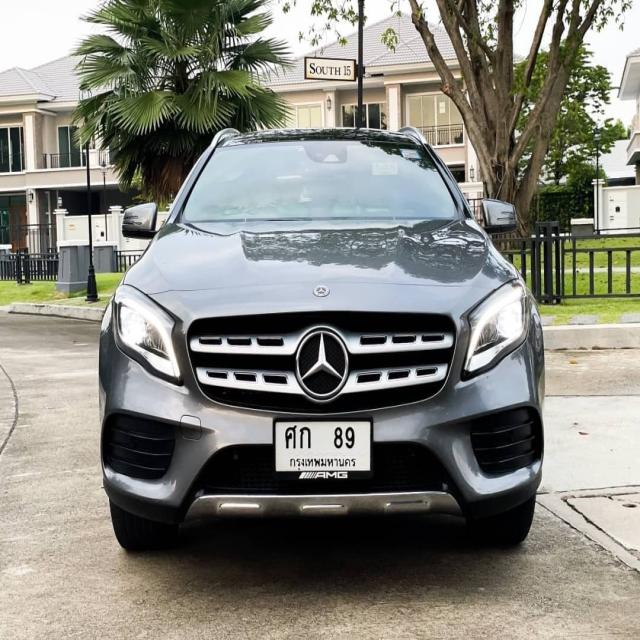license_plate: (272, 414, 373, 480)
